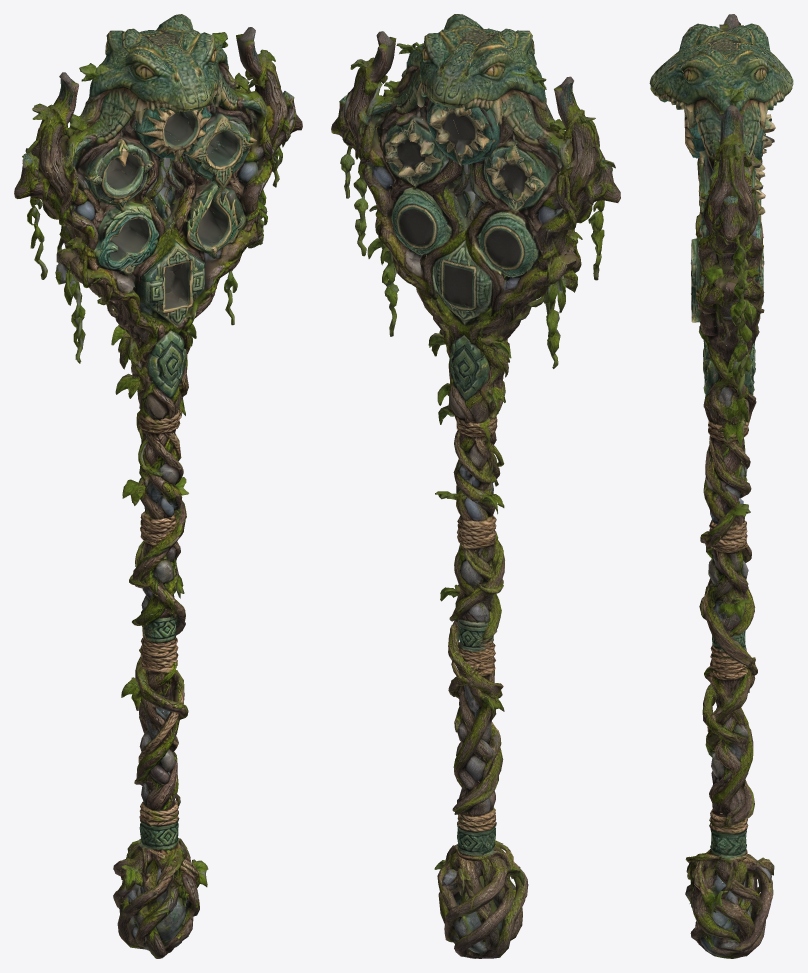
Rendered from sceptre-hero.glb.
3 renders of one model, left to right at view 1: azimuth 30°, elevation 25°; view 2: azimuth 150°, elevation 25°; view 3: azimuth 270°, elevation 25°, orthographic.
Parts seen in each view (by area): view 1: Mesh_0; view 2: Mesh_0; view 3: Mesh_0.
Boxes of the visible parts, x1,y1,x2,y2 form: Mesh_0: [14, 14, 302, 958]; Mesh_0: [331, 14, 620, 958]; Mesh_0: [649, 14, 793, 958].
Size of the model in its own units: 0.6212 by 1.9 by 0.2703.
1 material, 1 textured.
